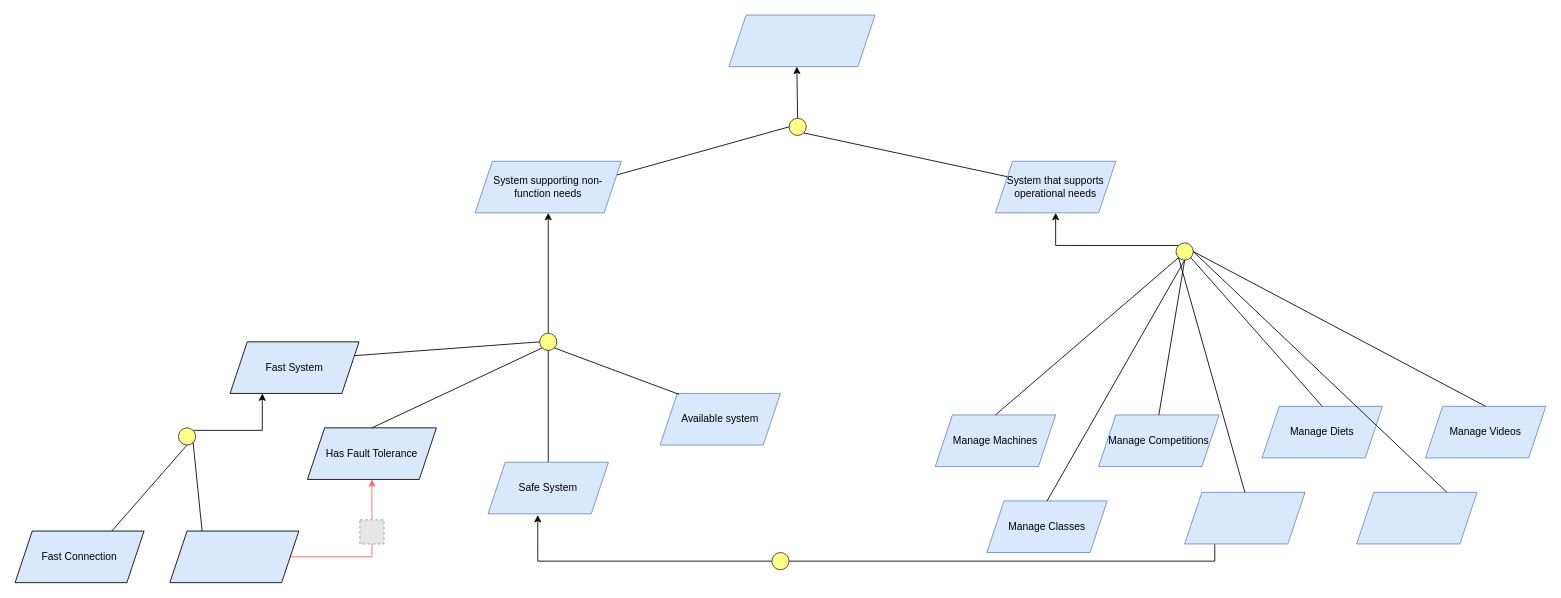
This 1561x598 diagram has some shape labels left out. Grey dashed boxes stand in for pictures. Here are the shapes that lost their labels. From the top down, the centre of each, then its label:
the point at 801,40: System supporting stakeholders needs
the point at 1244,517: Manage Users
the point at 1416,517: Manage Playlists
the point at 234,556: Efficient operations
